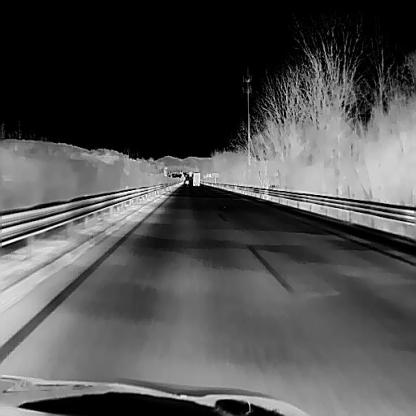truck: (192, 170, 200, 185)
